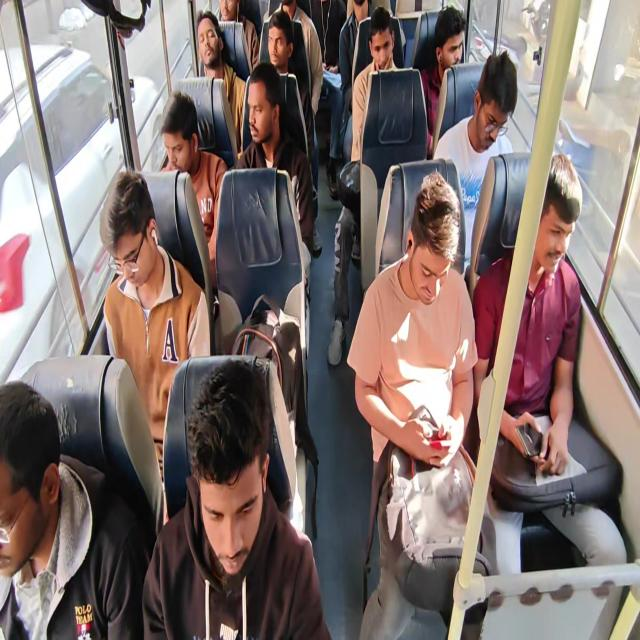person: (472, 151, 627, 591), (346, 171, 486, 638), (141, 356, 332, 639), (99, 170, 211, 521), (0, 379, 150, 639), (327, 6, 400, 366), (432, 49, 518, 276), (234, 61, 314, 258), (267, 1, 323, 255), (159, 90, 228, 291), (298, 0, 347, 199), (195, 10, 247, 152), (419, 6, 466, 155), (265, 10, 309, 154), (338, 0, 372, 113), (214, 0, 259, 76)
